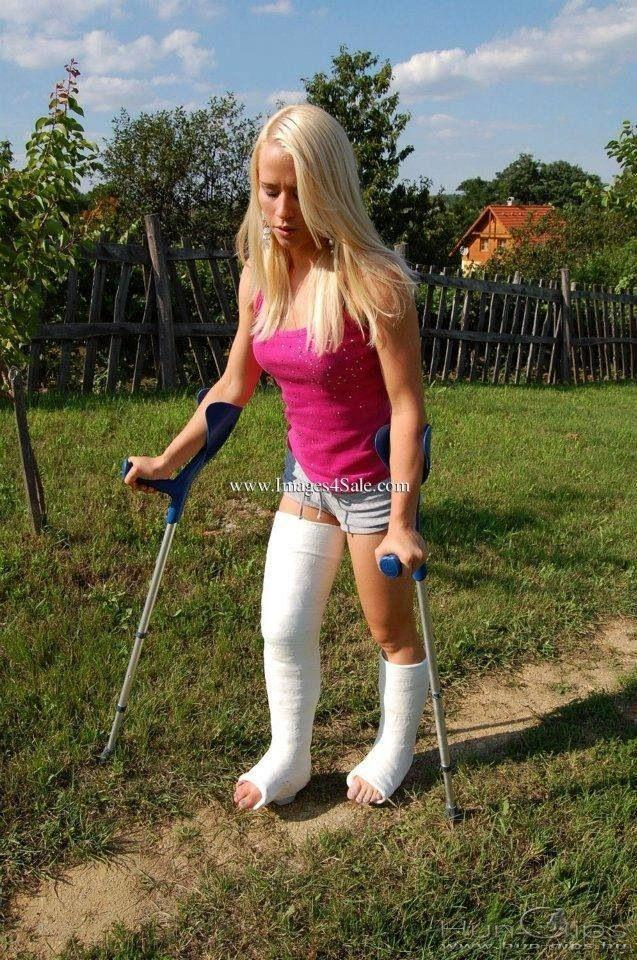crutches: (91, 86, 479, 847)
